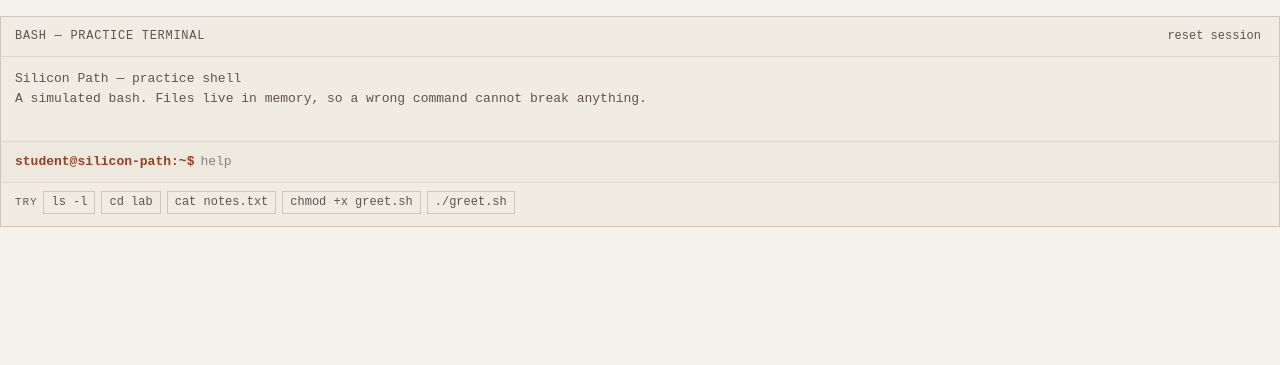
it: BashTerminal › refuses to execute a script without the execute bit
In the field named "Terminal command": (733, 162) [200,152,1265,172], type "./greet.sh"
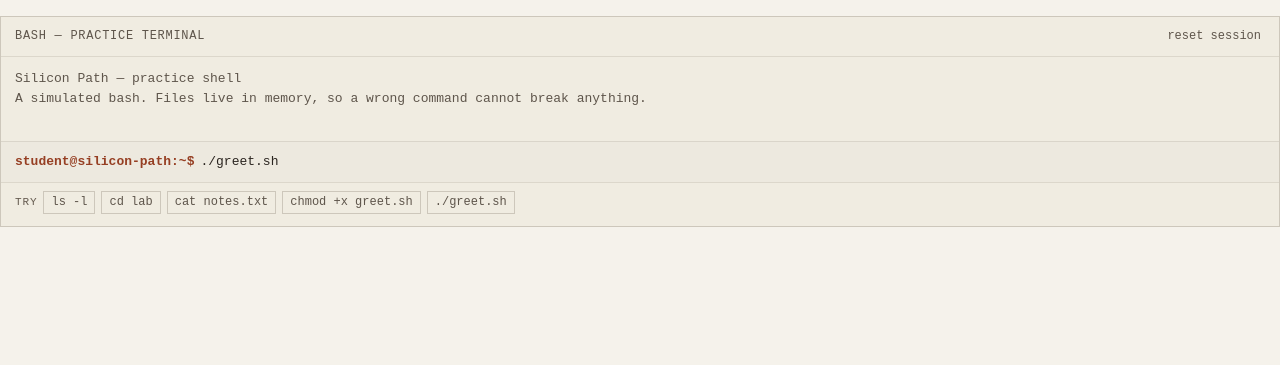
Submit the form named "Terminal command", box [1,141,1279,182]
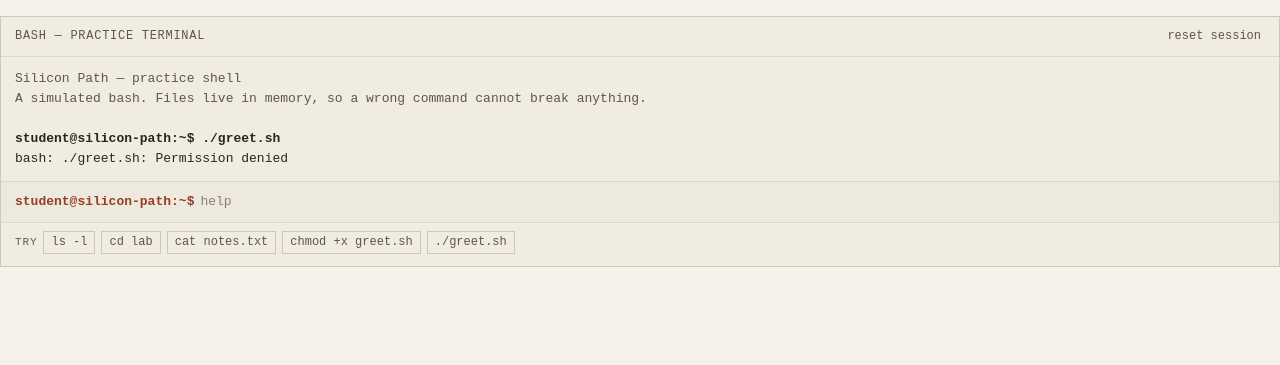
expect the element named "Terminal output" shows "Permission denied": met, box [15,151,288,166]
In the field named "Terminal command": (733, 202) [200,192,1265,212], type "chmod +x greet.sh"
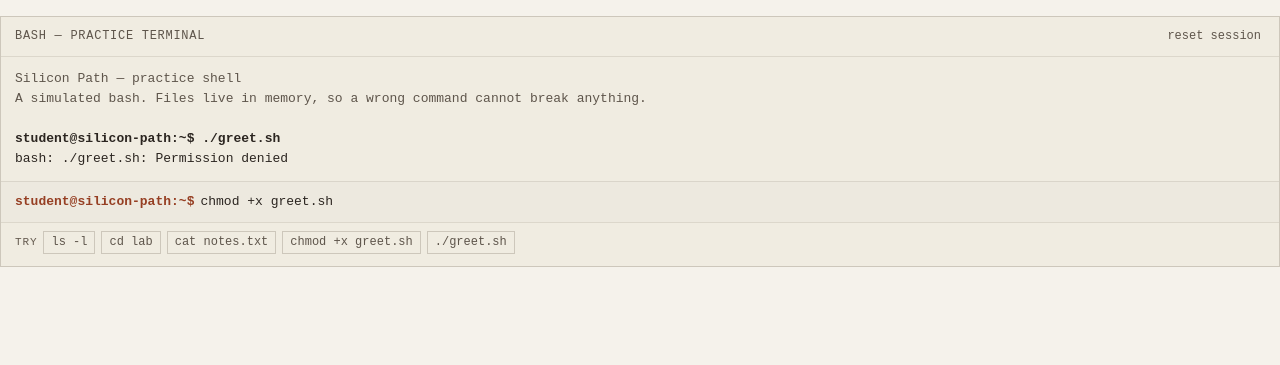
Submit the form named "Terminal command", box [1,181,1279,222]
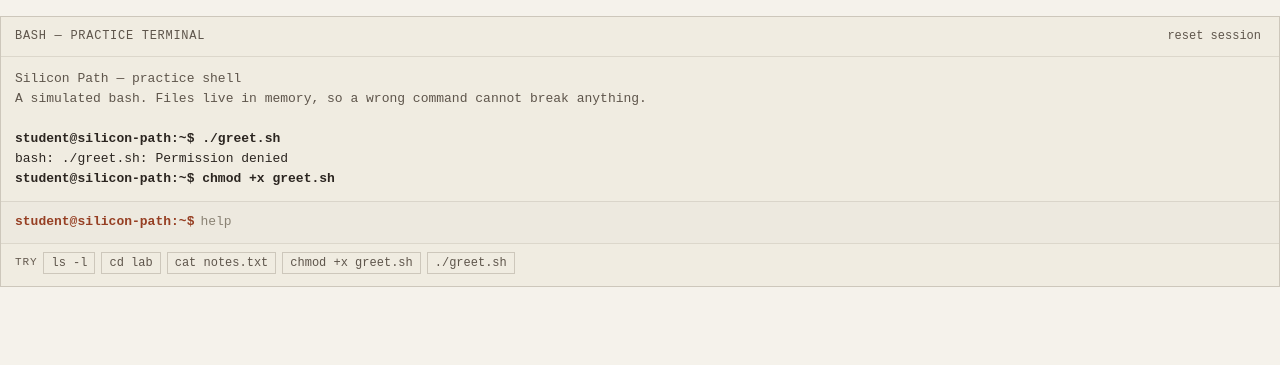
In the field named "Terminal command": (733, 222) [200,212,1265,232], type "./greet.sh"
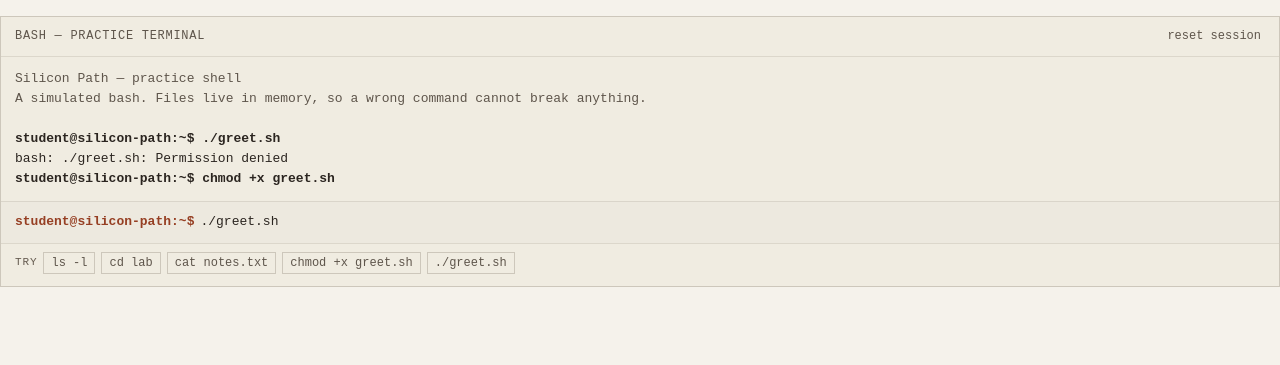
Submit the form named "Terminal command", box [1,201,1279,242]
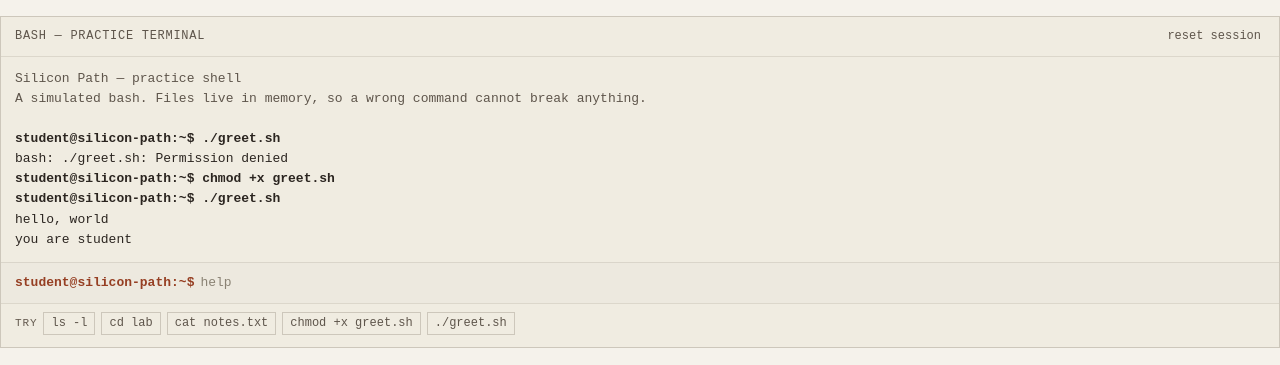
expect the element named "Terminal output" shows "hello, world": met, box [15,212,109,227]
expect the element named "Terminal output" shows "you are student": met, box [15,232,132,247]
